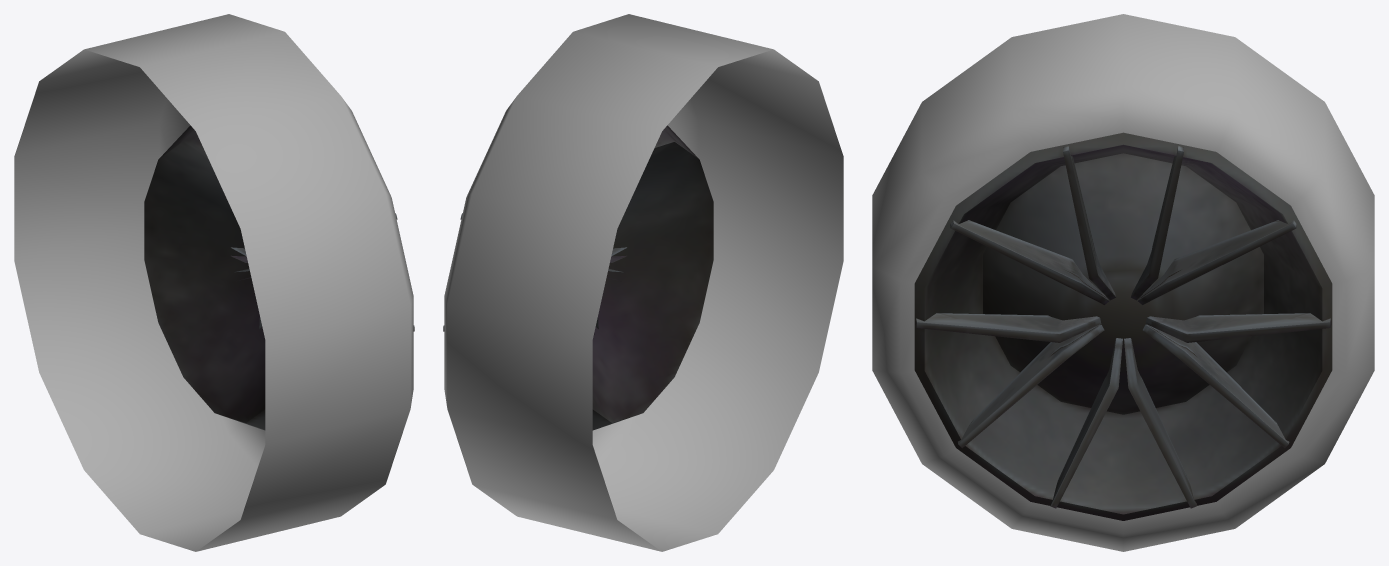
The model's file is Ferrari_wheel.fbx.
3 renders of one model, left to right at view 1: azimuth 30°, elevation 25°; view 2: azimuth 150°, elevation 25°; view 3: azimuth 270°, elevation 25°, orthographic.
Visible parts, largest first — view 1: Ferrari_wheel_F.L; view 2: Ferrari_wheel_F.L; view 3: Ferrari_wheel_F.L.
Boxes of the visible parts, x1,y1,x2,y2 form: Ferrari_wheel_F.L: [14, 14, 414, 551]; Ferrari_wheel_F.L: [443, 14, 843, 551]; Ferrari_wheel_F.L: [872, 14, 1374, 551].
Size of the model in its own units: 34.67 by 90.28 by 88.01.
Materials: 2 (1 with a texture image).
